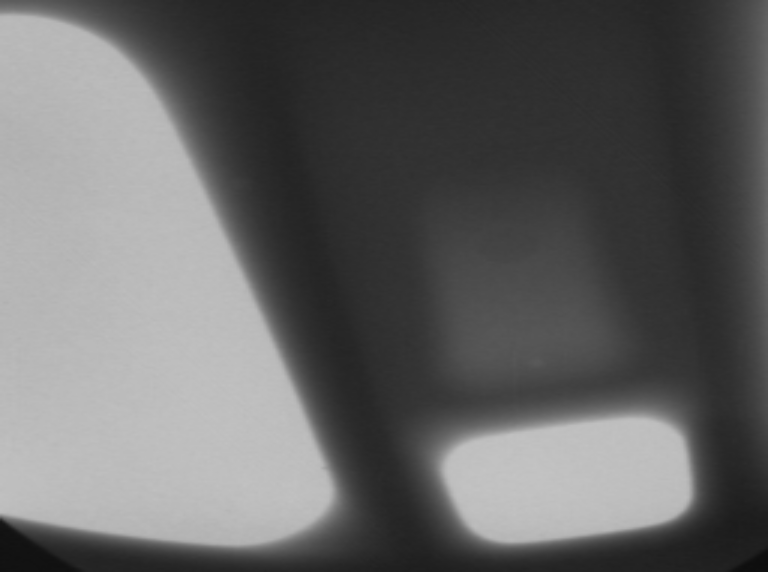defect: (516, 349, 567, 380)
